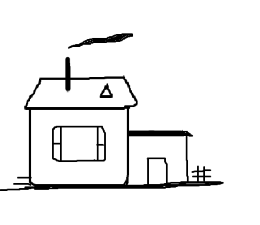door: (143, 154, 173, 190)
open_window: (52, 125, 106, 162)
roof: (25, 75, 137, 110)
shaded_roof: (127, 126, 196, 142)
smoking_chimney: (57, 29, 141, 89)
wall: (24, 101, 132, 190), (124, 133, 191, 187)
